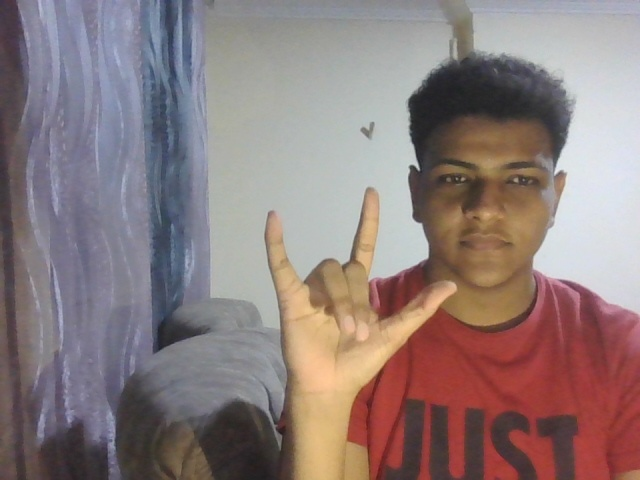iloveyou: (250, 180, 459, 397)
